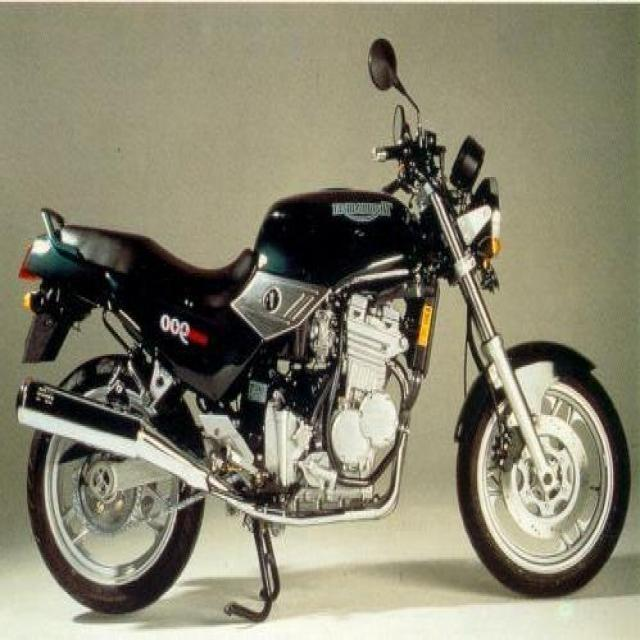Motorcycle: (6, 84, 639, 603)
